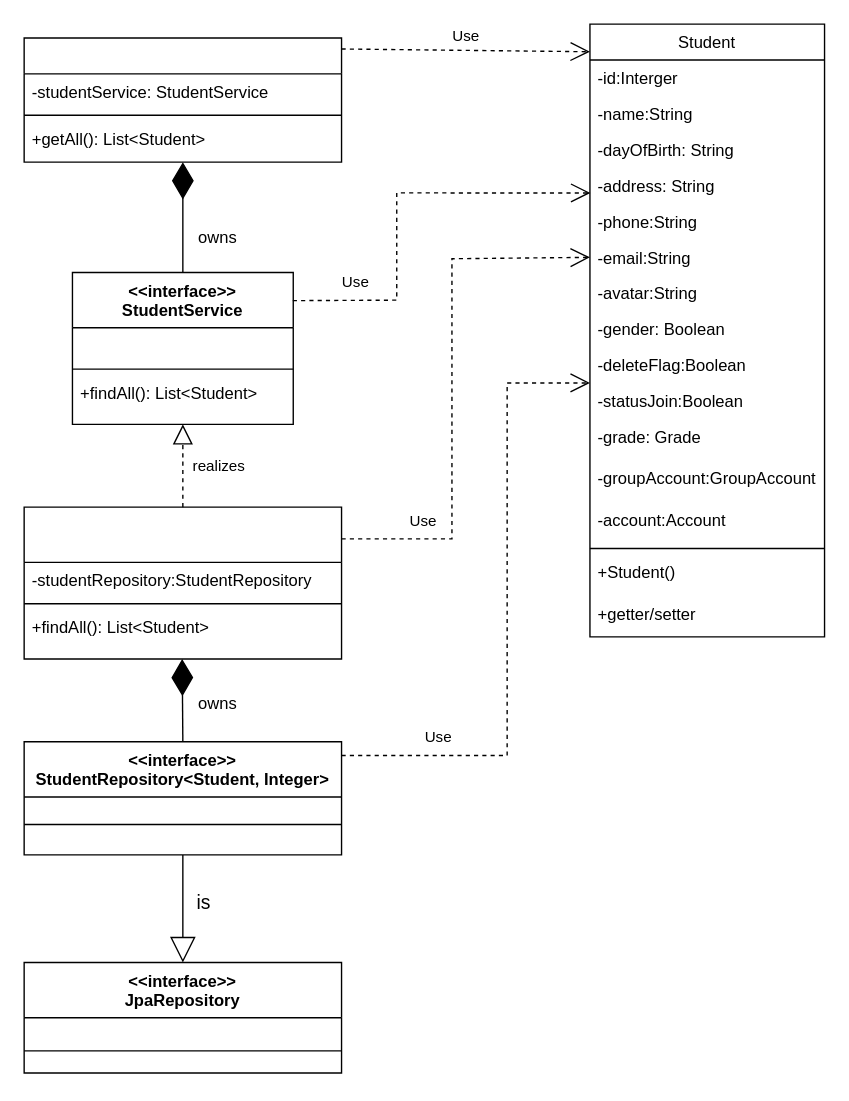
The diagram is 849 pixels wide and 1101 high, and some of its shapes have lost their labels. The box of each missing label's shape, as (x1, y1, x2, y2) in pixels:
StudentController: (23, 37, 342, 162)
StudentServiceImpl: (23, 506, 342, 659)
